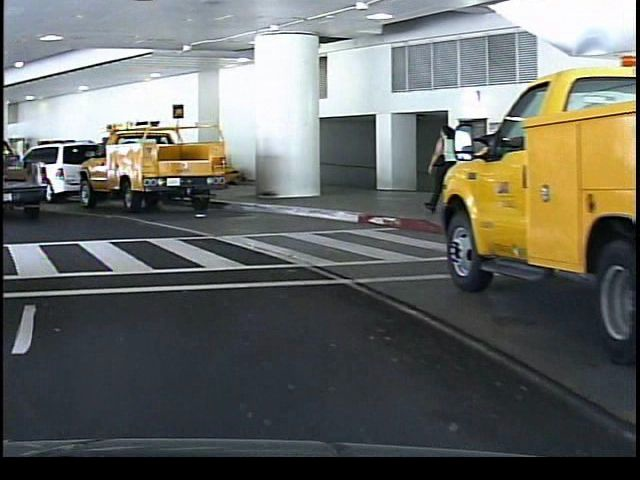person: (422, 118, 460, 223)
